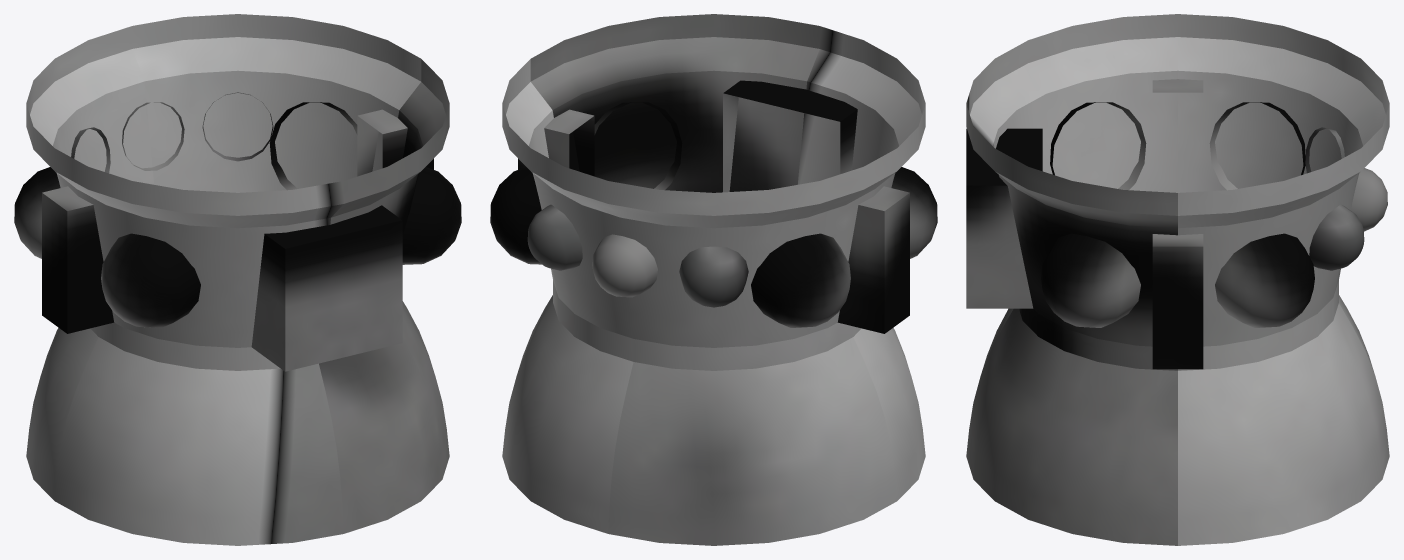
File: service_module.obj
The picture shows the model from 3 angles, left to right: view 1: azimuth 30°, elevation 25°; view 2: azimuth 150°, elevation 25°; view 3: azimuth 270°, elevation 25°; orthographic projection.
Parts seen in each view (by area): view 1: sm; view 2: sm; view 3: sm.
Part boxes in pixels (x1,y1,x2,y2): sm: [14, 14, 461, 545]; sm: [490, 14, 937, 545]; sm: [966, 14, 1389, 545].
Size of the model in its own units: 0.625 by 0.575 by 0.625.
